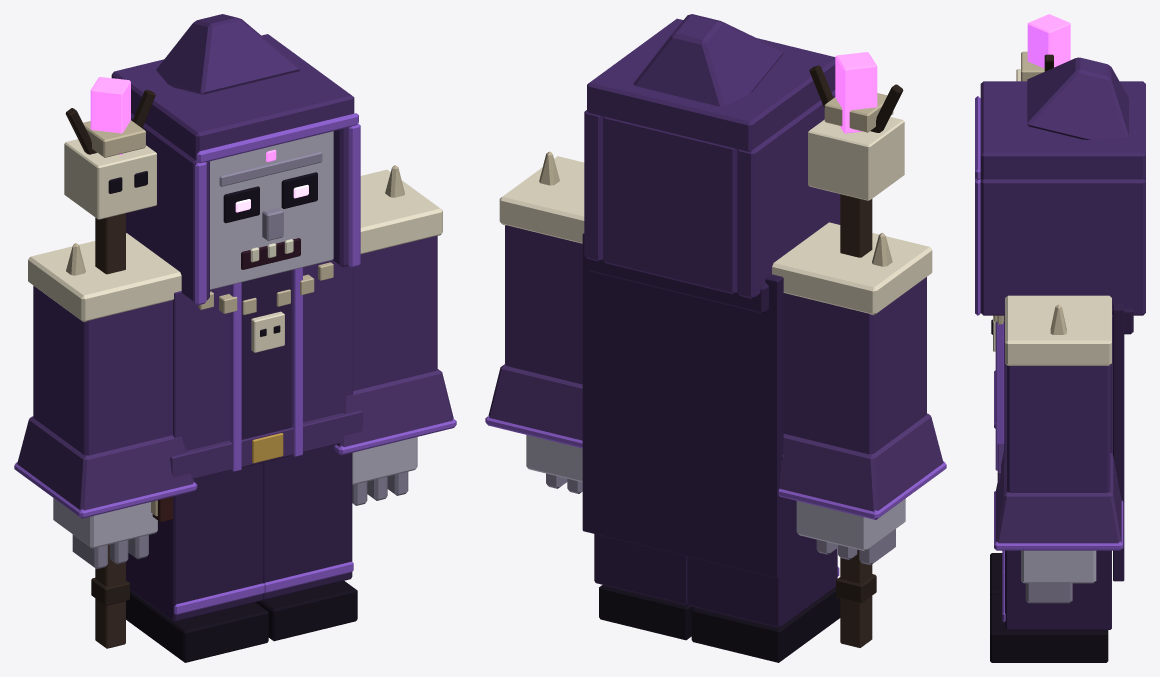
File: myw_zombienecromancer.glb
The picture shows the model from 3 angles, left to right: view 1: azimuth 30°, elevation 25°; view 2: azimuth 150°, elevation 25°; view 3: azimuth 270°, elevation 25°; orthographic projection. The views are drawn at different scales.
Visible parts, largest first — view 1: RightArm, Hat, Torso, LeftArm, RightLeg, LeftLeg, Head, Staff; view 2: Hat, Torso, RightArm, LeftArm, Staff, RightLeg, LeftLeg; view 3: Hat, LeftArm, LeftLeg, Torso, Staff, RightLeg.
Boxes of the visible parts, <box> form: RightArm: <box>14,233,197,569</box>; Hat: <box>111,14,360,305</box>; Torso: <box>151,260,362,522</box>; LeftArm: <box>334,165,456,505</box>; RightLeg: <box>126,463,268,662</box>; LeftLeg: <box>256,444,357,641</box>; Head: <box>210,131,333,289</box>; Staff: <box>64,77,156,648</box>; Hat: <box>584,14,840,313</box>; Torso: <box>582,233,783,578</box>; RightArm: <box>772,222,946,565</box>; LeftArm: <box>485,151,584,493</box>; Staff: <box>808,52,904,647</box>; RightLeg: <box>687,497,840,662</box>; LeftLeg: <box>594,534,694,640</box>; Hat: <box>975,57,1145,334</box>; LeftArm: <box>994,295,1123,603</box>; LeftLeg: <box>990,550,1111,662</box>; Torso: <box>991,304,1124,581</box>; Staff: <box>1016,14,1070,81</box>; RightLeg: <box>990,550,1004,595</box>.
Size of the model in its own units: 4.42 by 6.58 by 1.82.
